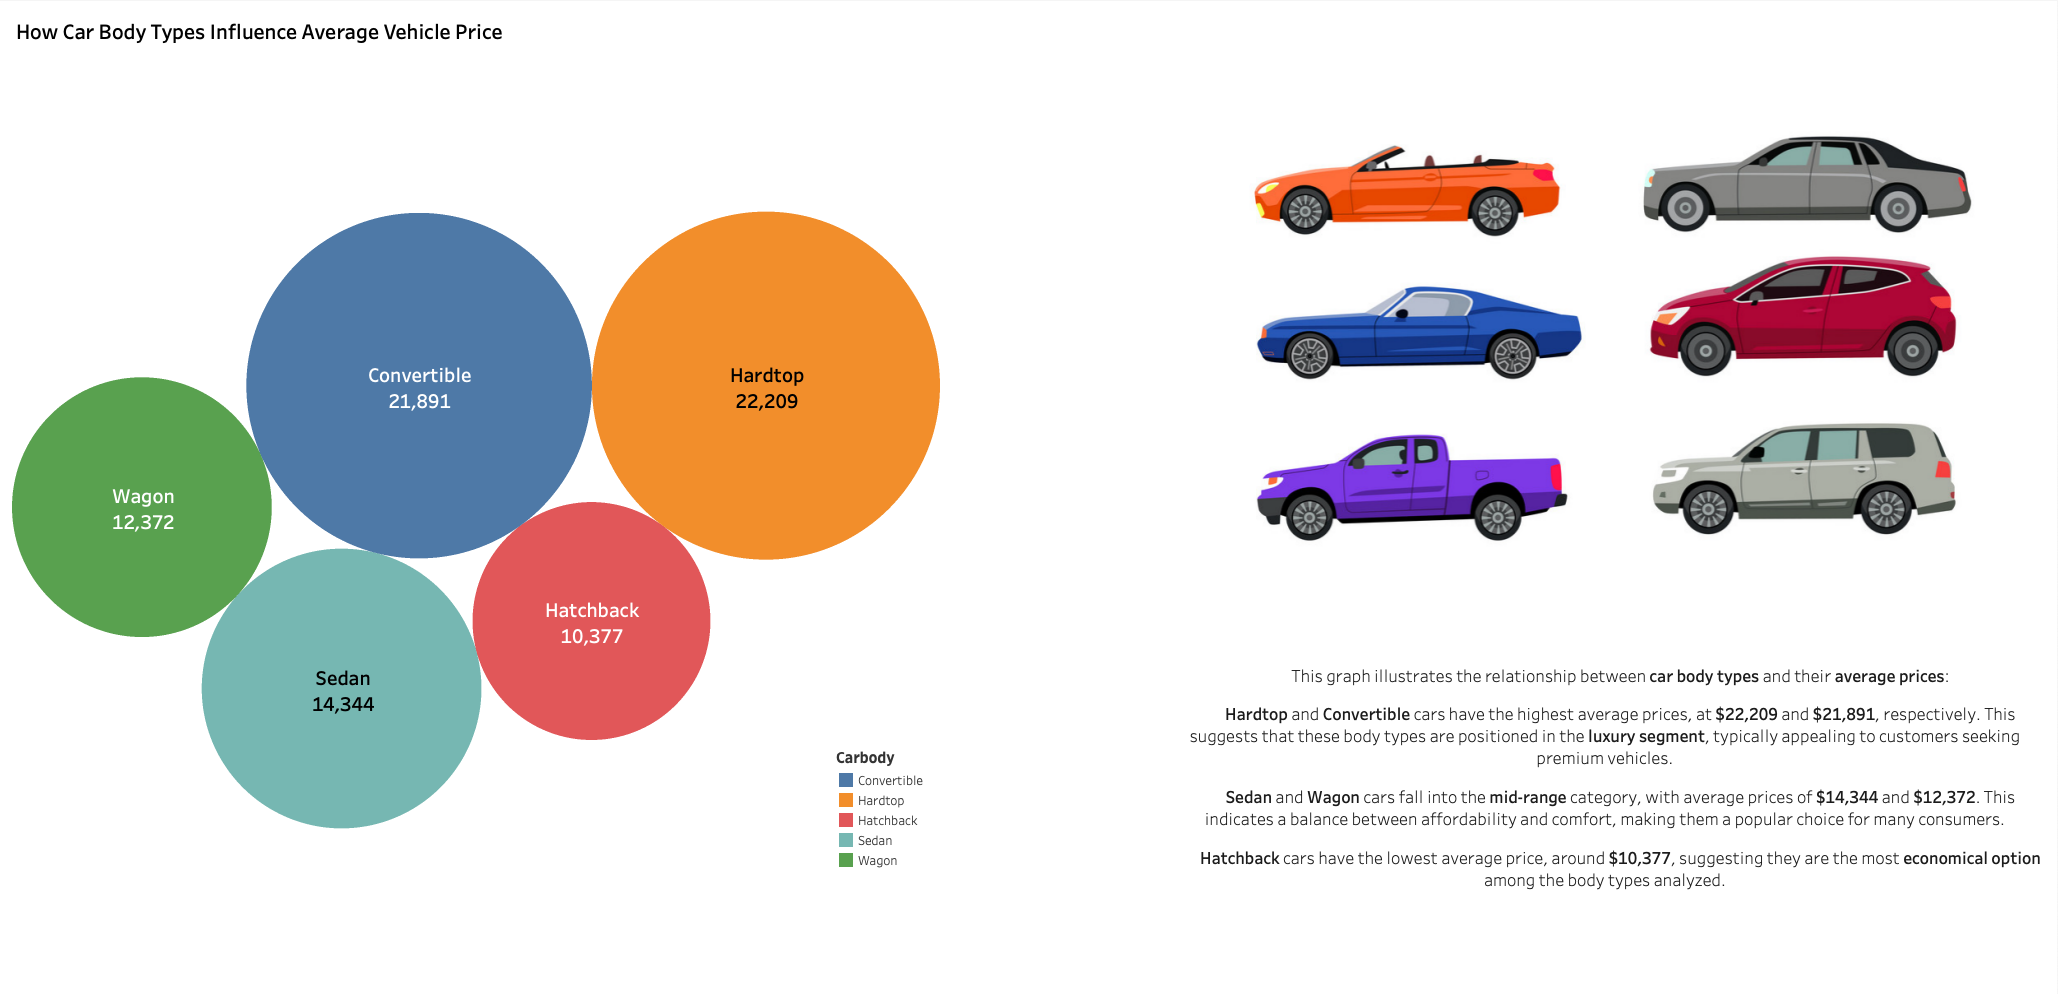

This screenshot's page, from the dashboard's own definition file:
{"tool":"tableau","page":{"name":"Carbody.Price","canvas":[1000,1000],"units":"permille","ordinal":1},"visuals":[{"type":"worksheet","title":"Carbody vs Price","mark":"Circle","box":[3.9,8,560.5,983.9]},{"type":"text","box":[564.4,8,431.7,983.9]},{"type":"image","param":"/Users/sanemini/Downloads/Screenshot 2024-10-03 at 10.52.05 PM.png","box":[599.4,93.5,366.1,499.5]},{"type":"legend","title":"Carbody vs Price","param":"[federated.0e729hn1fybl4716i38pu0krnbpw].[none:carbody:nk]","box":[406.4,749.8,80.2,151.8]}]}

Visuals, with their boxes on the dashboard's canvas, which has no fixed pixel size, in thousandths of its width and height (x1, y1, x2, y2). These are canvas units, not pixel positions in the 2058x994 screenshot, which may show the page scaled, cropped or inside an application window:
"Carbody vs Price" worksheet (Circle marks): left=4, top=8, right=564, bottom=992
text: left=564, top=8, right=996, bottom=992
image: left=599, top=94, right=966, bottom=593
"Carbody vs Price" legend: left=406, top=750, right=487, bottom=902
